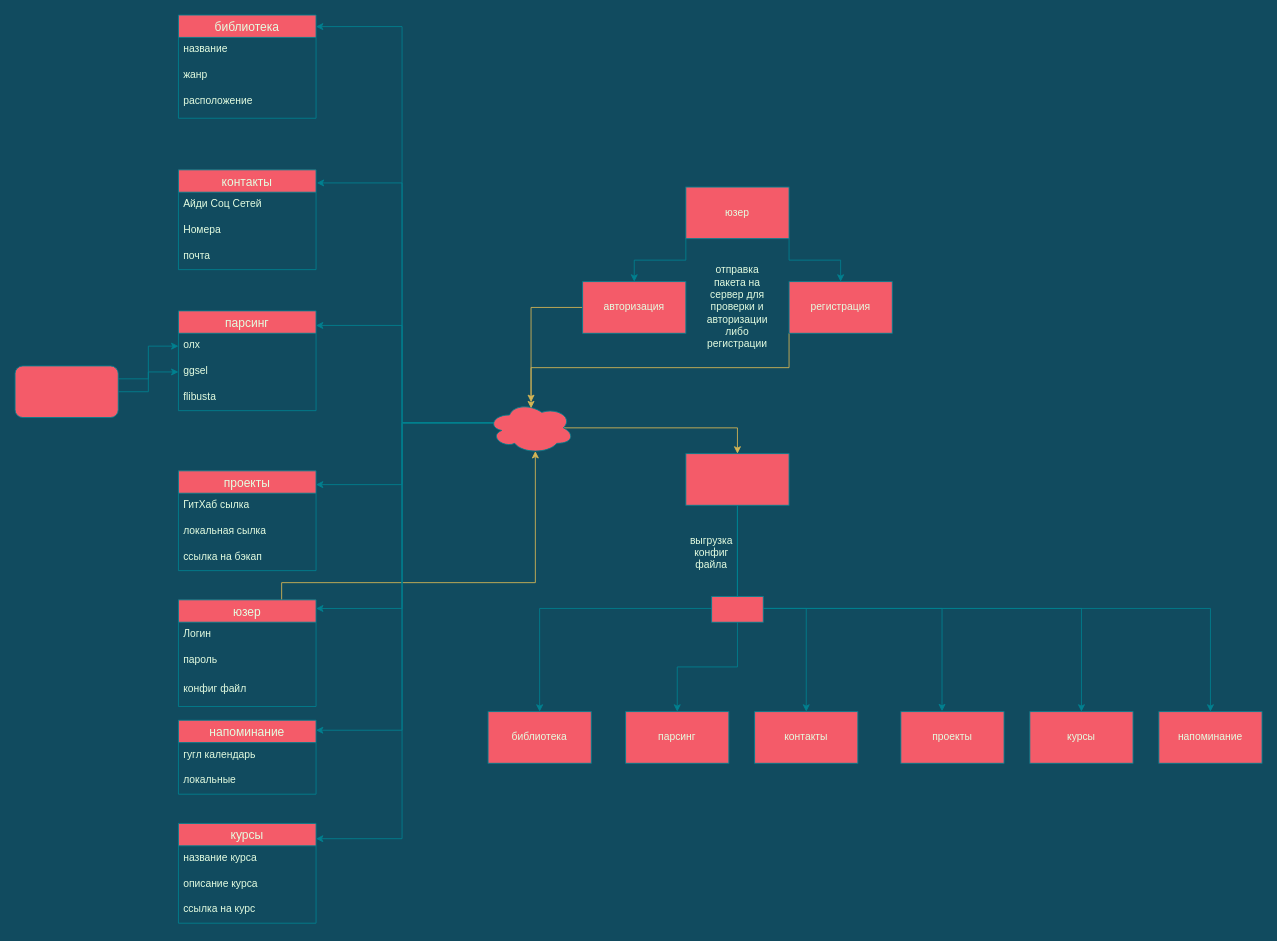
This 1277x941 diagram has some shape labels left out. The shapes that lost their labels are listed below. From the top down, each one's centre as x and y in pixels, then its label:
At pixel 66 391: "хранение не более 24 часов".
At pixel 530 427: "сервер".
At pixel 737 479: "вход выполнен".
At pixel 737 609: "поиск".
